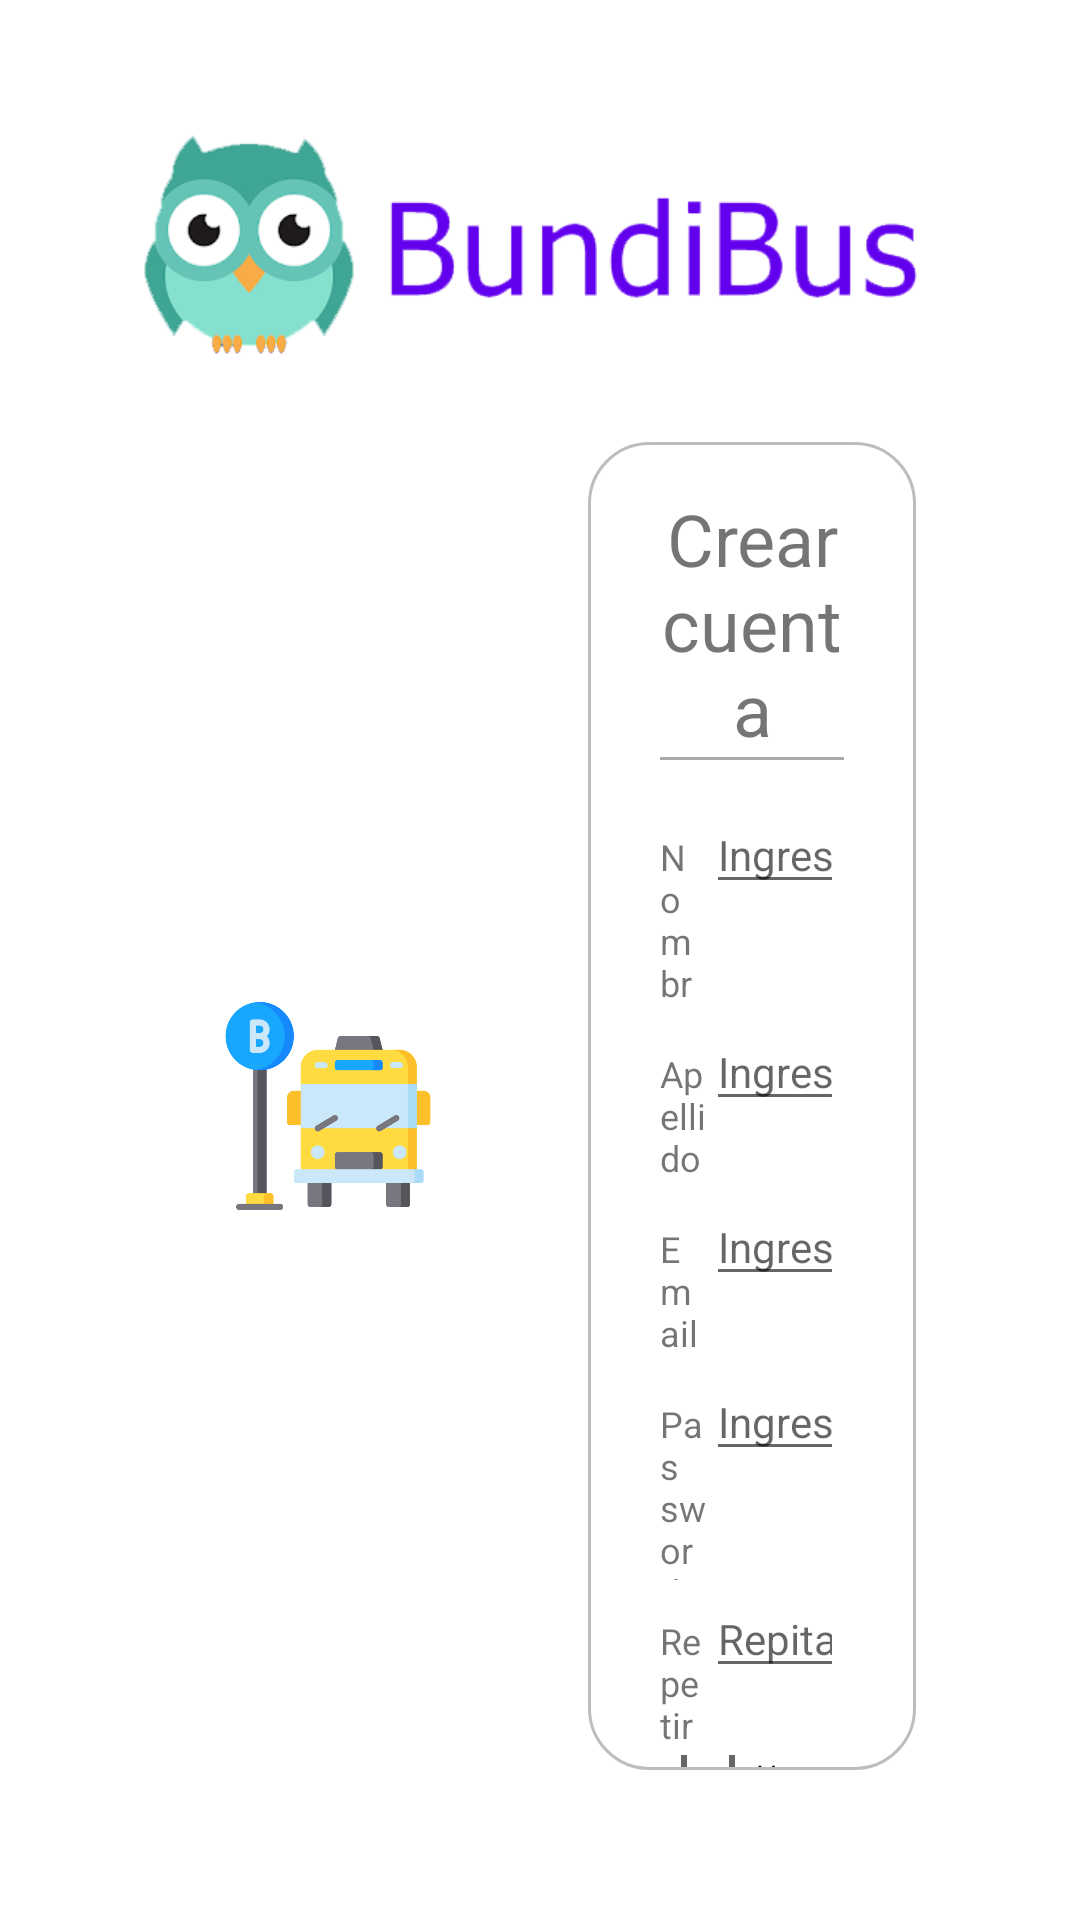

Named icons in this screenshot (1080 x 1920) and their centers, (x,y):
bus stop: (328,1106)
